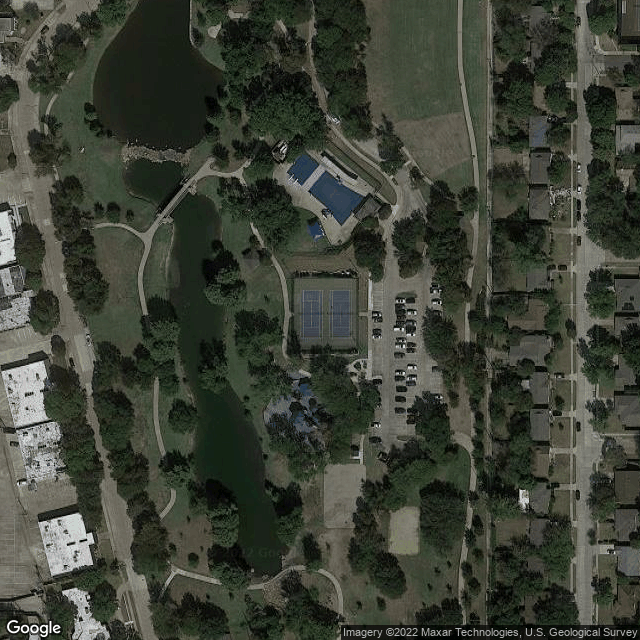Court: (300, 289, 323, 340), (329, 289, 352, 338)
